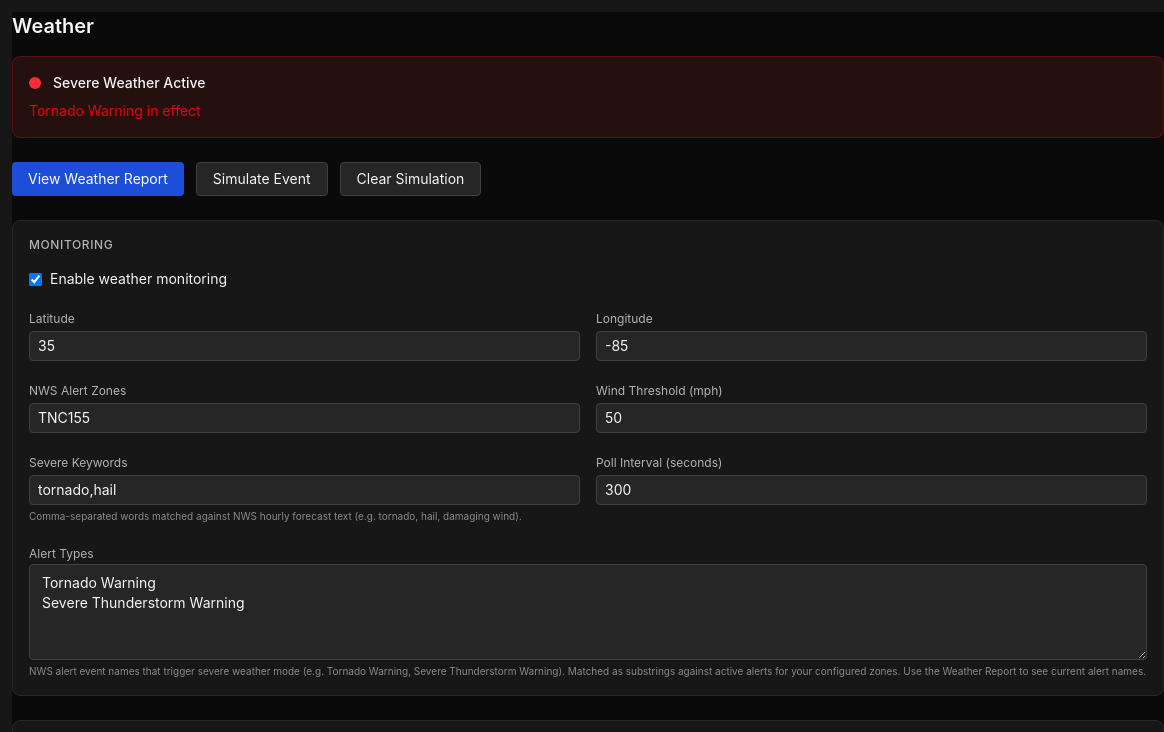
Test: WeatherConfig — Simulation › clears simulation and shows toast
The width and height of the screenshot is (1164, 732).
Click the button "Clear Simulation" at coordinates (410, 179), box [340,162,481,196]
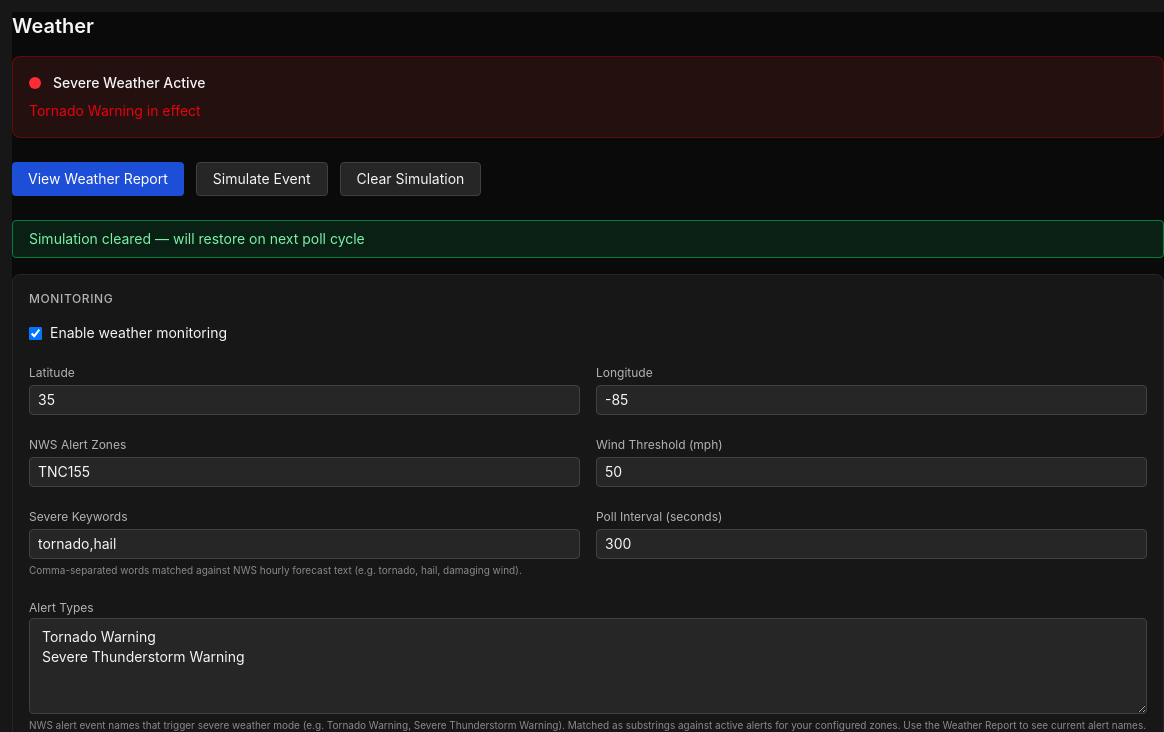
Now the text "Simulation cleared — will restore on next poll cycle" is shown, box [12,220,1163,258]
